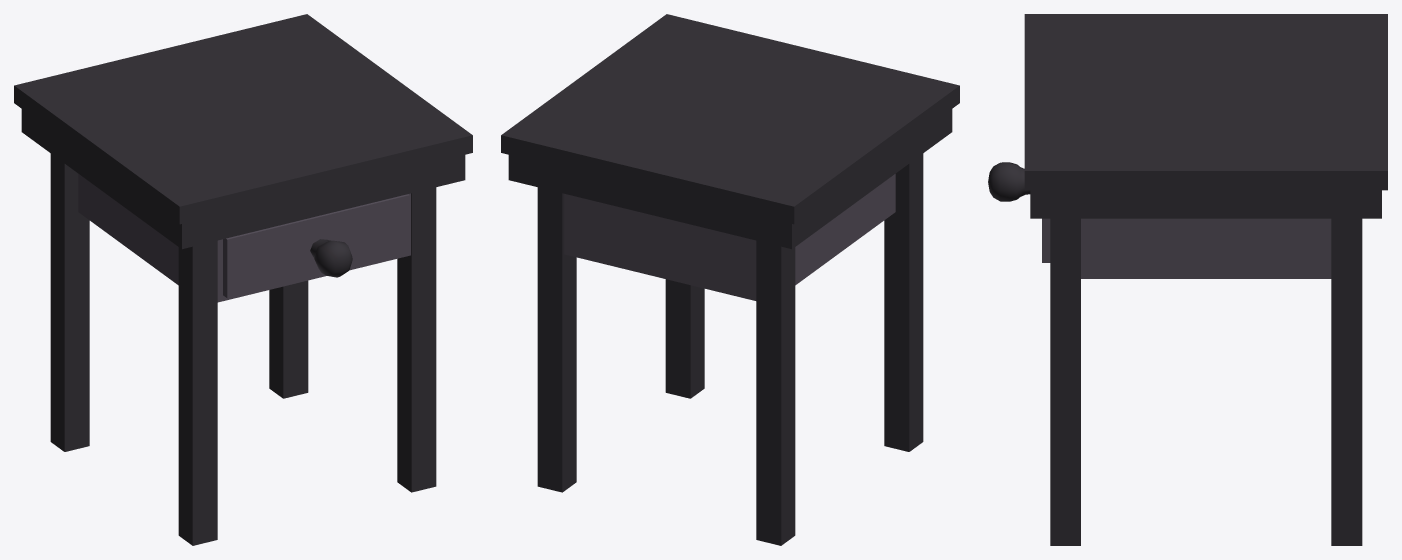
The model's file is Prop_Table_02.fbx.
3 views of the same model, side by side, from view 1: azimuth 30°, elevation 25°; view 2: azimuth 150°, elevation 25°; view 3: azimuth 270°, elevation 25° (orthographic). The views are drawn at different scales.
Visible parts, largest first — view 1: Prop_Table_02; view 2: Prop_Table_02; view 3: Prop_Table_02.
Boxes of the visible parts, x1,y1,x2,y2 form: Prop_Table_02: (14,14,472,545); Prop_Table_02: (501,14,959,545); Prop_Table_02: (988,14,1387,545).
Size of the model in its own units: 65 by 75 by 70.
